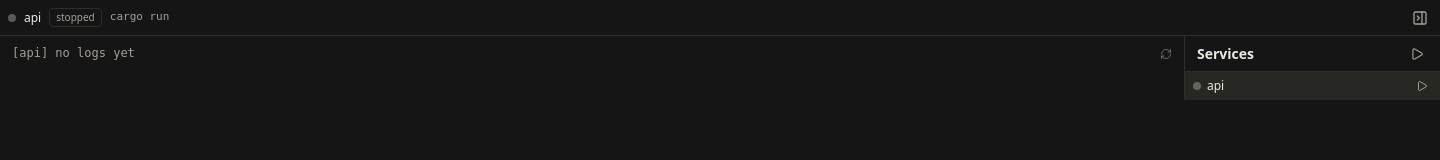
Test: RuntimePanel — service controls › shows error banner when service action is rejected
The width and height of the screenshot is (1440, 160).
Click the button named "Start api": coordinates (1422, 86) [1412,76,1432,96]
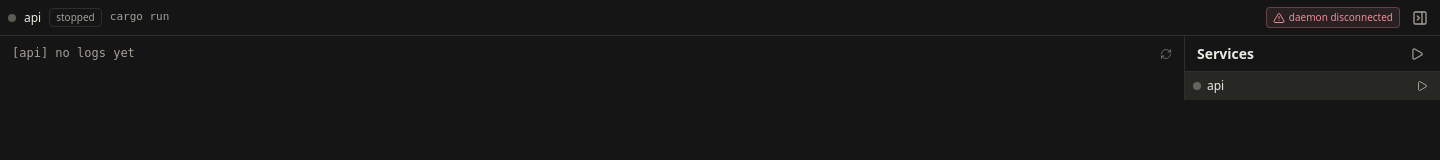
Result: the message reads "daemon disconnected" at [1289,10,1393,24]
